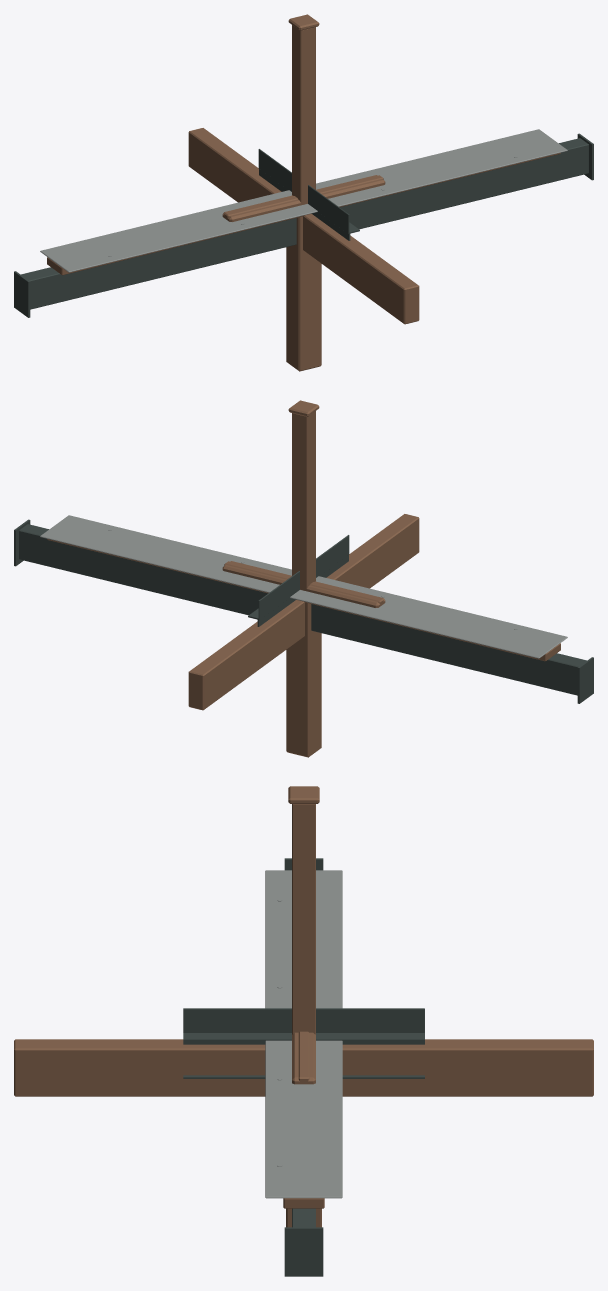
Rendered from boardwalk_kit.glb.
3 renders of one model, top to bottom at view 1: azimuth 30°, elevation 25°; view 2: azimuth 150°, elevation 25°; view 3: azimuth 270°, elevation 25°, orthographic. The views are drawn at different scales.
Visible parts, largest first — view 1: br_beam, br_expplate, bw_stringer, bw_pile, bw_post, br_kick, bw_rail_top, br_plank_2, bw_rail_mid, br_channel; view 2: br_beam, br_expplate, bw_stringer, bw_pile, bw_post, br_kick, bw_rail_top, br_plank_2, bw_rail_mid, br_channel; view 3: bw_stringer, br_expplate, bw_post, br_kick, br_channel, br_beam, bw_rail_top.
Boxes of the visible parts, bbox=[...] form: br_beam: bbox=[14, 133, 593, 317]; br_expplate: bbox=[40, 129, 567, 272]; bw_stringer: bbox=[188, 128, 419, 324]; bw_pile: bbox=[286, 216, 321, 371]; bw_post: bbox=[288, 14, 319, 204]; br_kick: bbox=[258, 149, 349, 233]; bw_rail_top: bbox=[222, 175, 385, 221]; br_plank_2: bbox=[47, 153, 560, 275]; bw_rail_mid: bbox=[224, 175, 383, 219]; br_channel: bbox=[259, 169, 359, 240]; br_beam: bbox=[14, 519, 593, 703]; br_expplate: bbox=[40, 515, 567, 658]; bw_stringer: bbox=[188, 514, 419, 710]; bw_pile: bbox=[286, 602, 321, 757]; bw_post: bbox=[288, 400, 319, 590]; br_kick: bbox=[258, 535, 349, 619]; bw_rail_top: bbox=[222, 561, 385, 607]; br_plank_2: bbox=[47, 539, 560, 661]; bw_rail_mid: bbox=[224, 561, 383, 603]; br_channel: bbox=[248, 555, 348, 626]; bw_stringer: bbox=[14, 1039, 593, 1096]; br_expplate: bbox=[265, 870, 342, 1198]; bw_post: bbox=[288, 786, 319, 1034]; br_kick: bbox=[183, 1008, 424, 1032]; br_channel: bbox=[183, 1033, 424, 1078]; br_beam: bbox=[284, 858, 323, 1276]; bw_rail_top: bbox=[292, 1032, 315, 1084].
Bounding box in the file's own units: 3.62 × 2.11 × 2.4.
